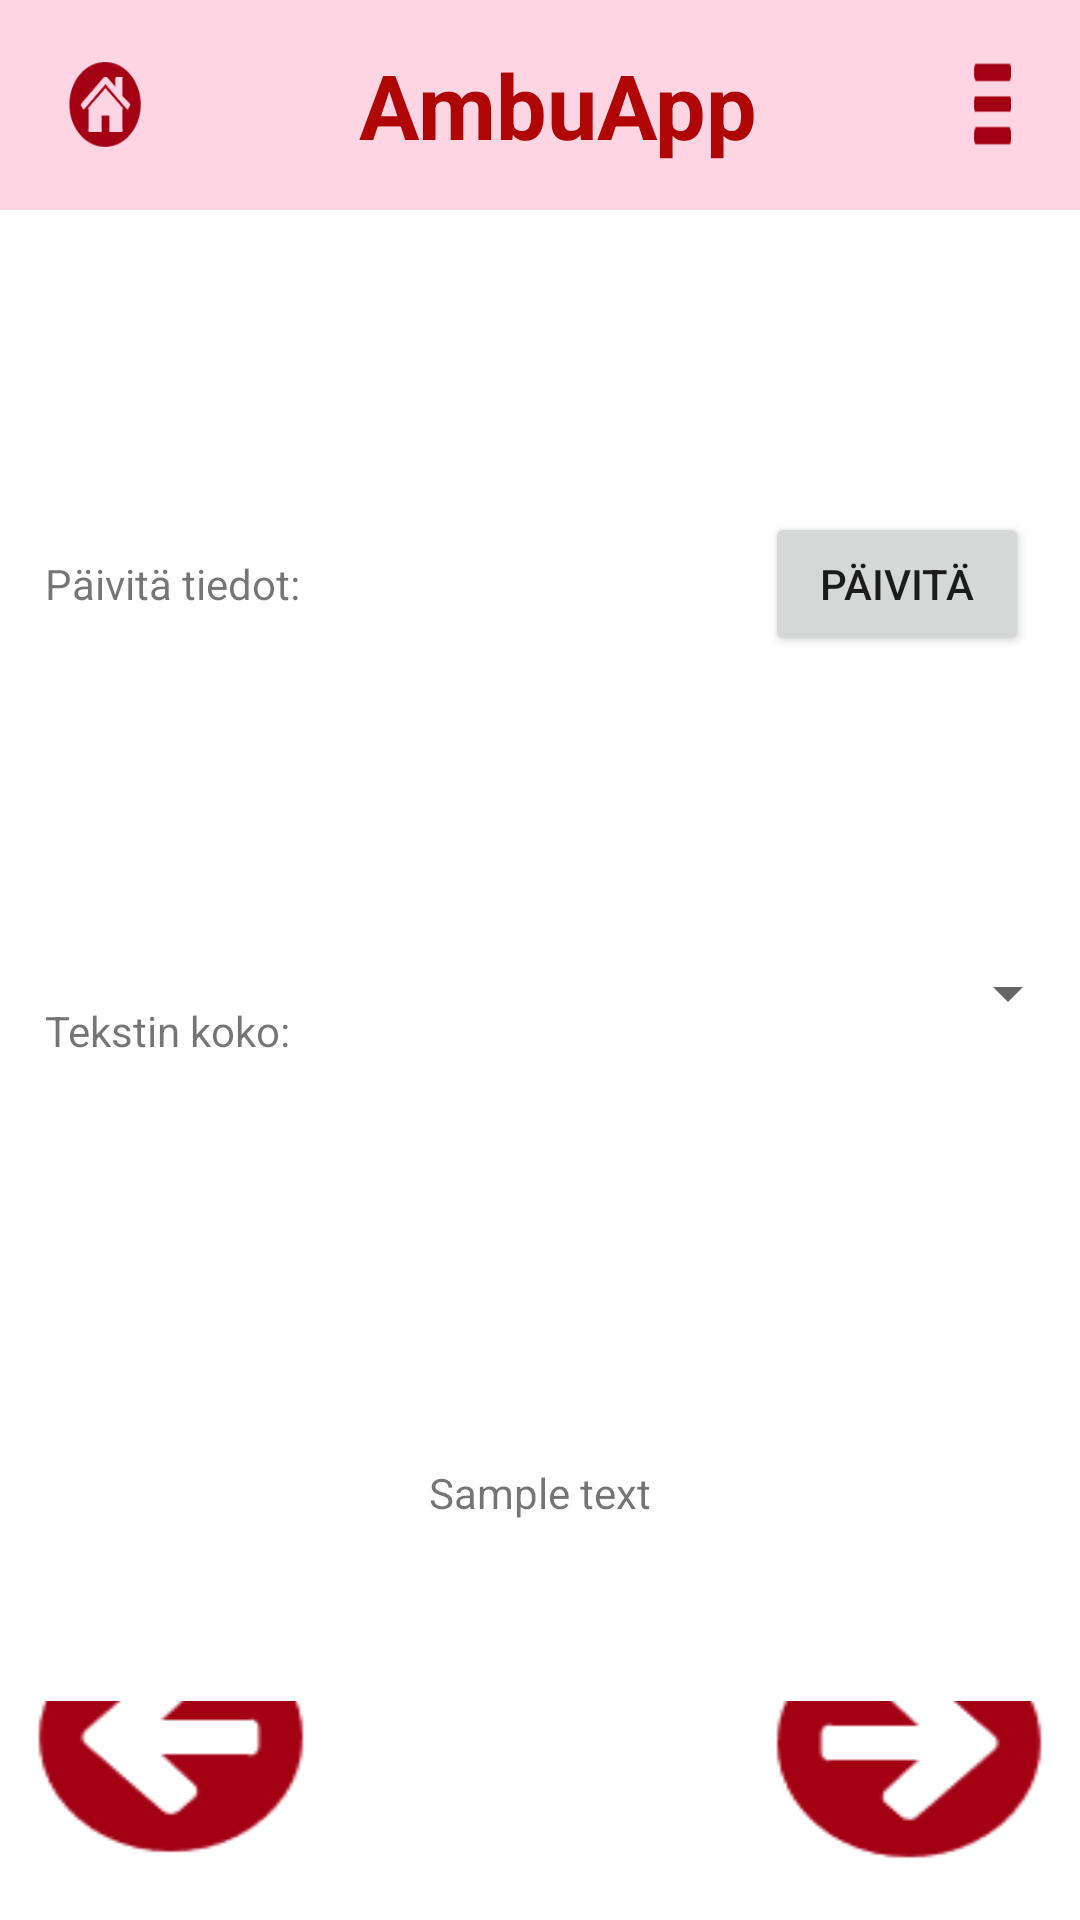

Icon bounding boxes for this 1080*1920 phone screenshot, format (x1, y1, x2, y2):
home: (69, 62, 141, 147)
navicon: (974, 63, 1011, 145)
